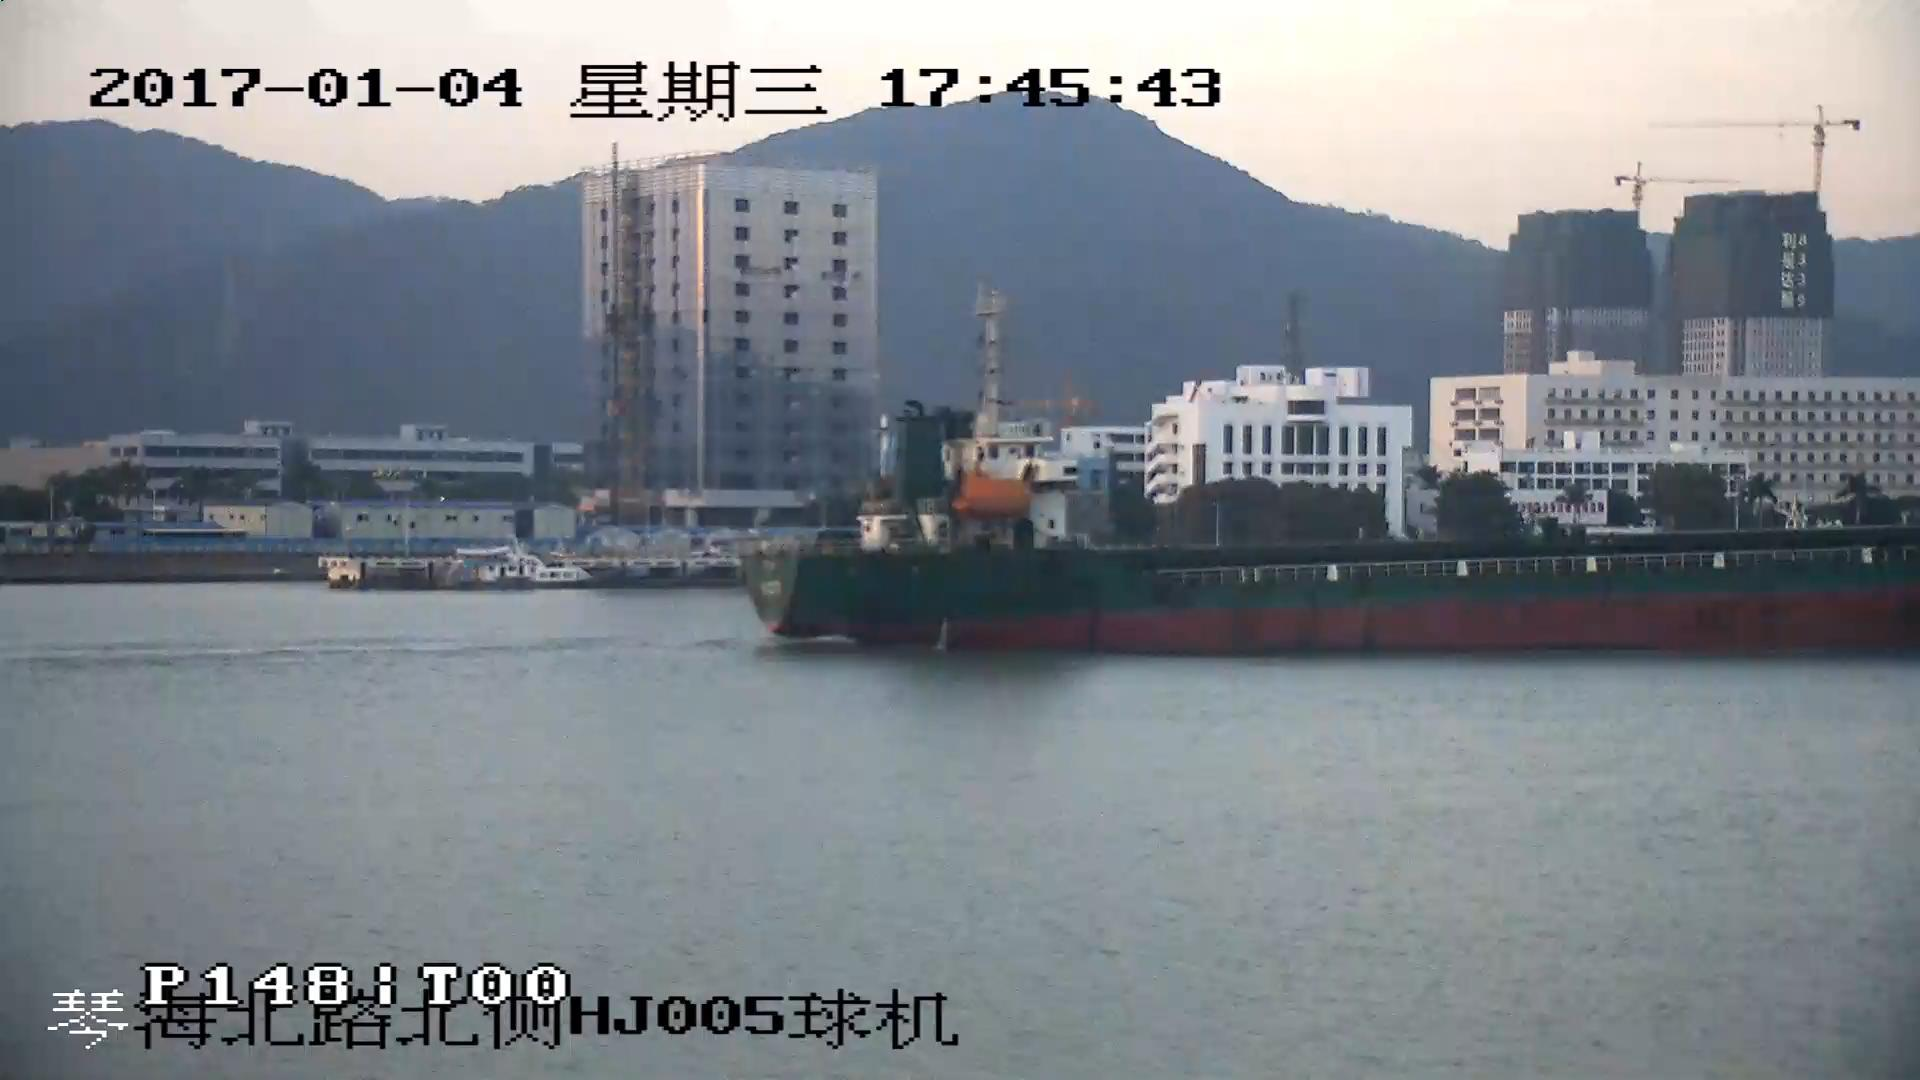Ship: (742, 282, 1920, 657)
